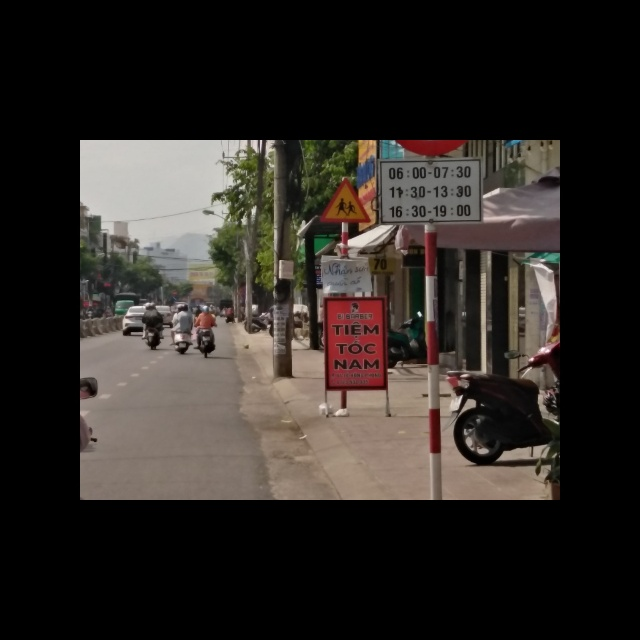Trẻ em ngang qua: (323, 177, 376, 223)
